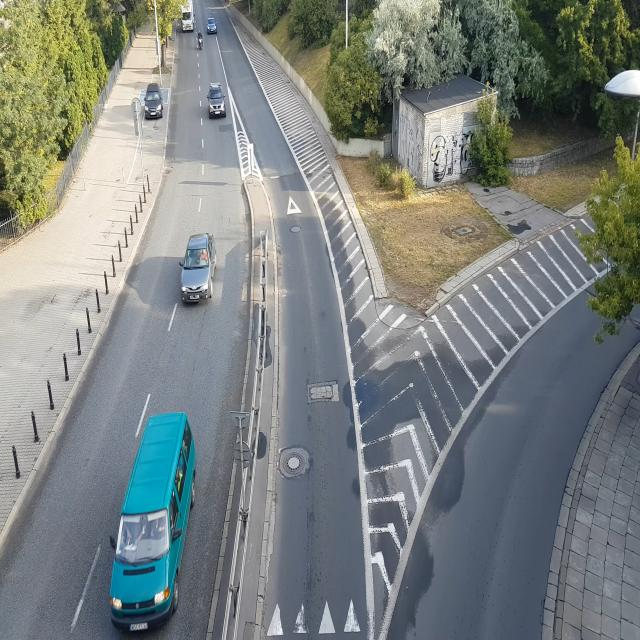car: (110, 409, 195, 631), (180, 232, 215, 304), (208, 79, 228, 119), (143, 89, 165, 119), (197, 30, 206, 52), (206, 19, 216, 34)
truck: (180, 1, 196, 40)
